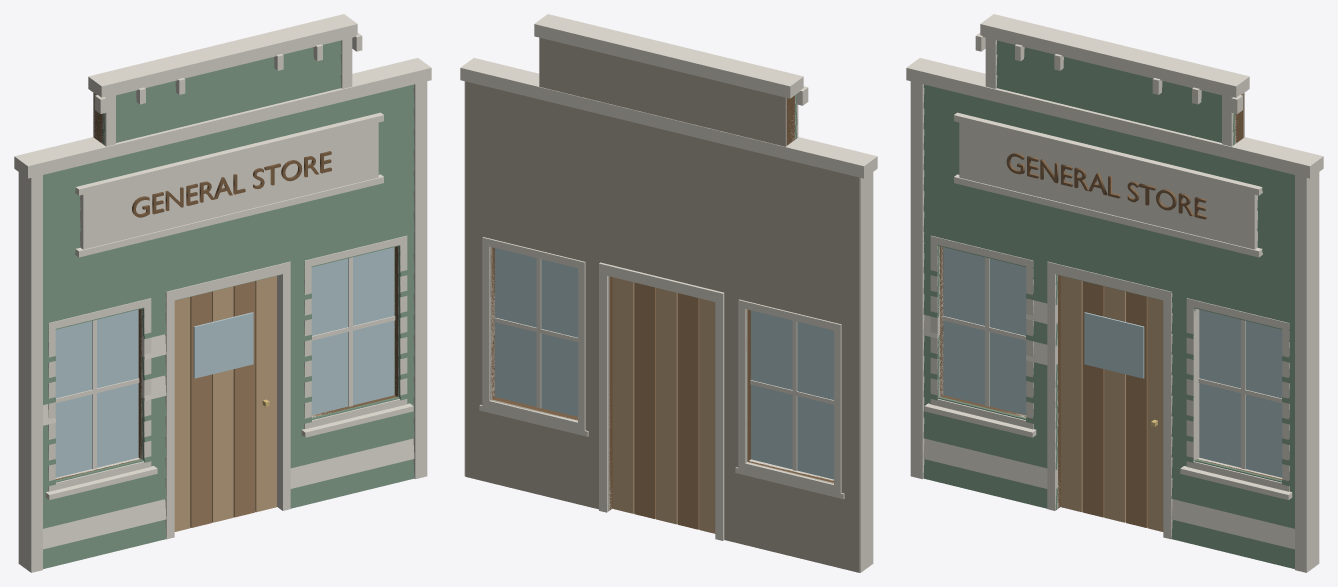
The model's file is SM_Facade_General_Store.glb.
3 renders of one model, left to right at view 1: azimuth 30°, elevation 25°; view 2: azimuth 150°, elevation 25°; view 3: azimuth 330°, elevation 25°, orthographic.
Parts seen in each view (by area): view 1: SM_Facade_General_Store; view 2: SM_Facade_General_Store; view 3: SM_Facade_General_Store.
Boxes of the visible parts, <box> form: SM_Facade_General_Store: <box>14,14,431,572</box>; SM_Facade_General_Store: <box>460,14,877,572</box>; SM_Facade_General_Store: <box>906,14,1323,572</box>.
Bounding box in the file's own units: 4.1 × 4.56 × 0.305.
